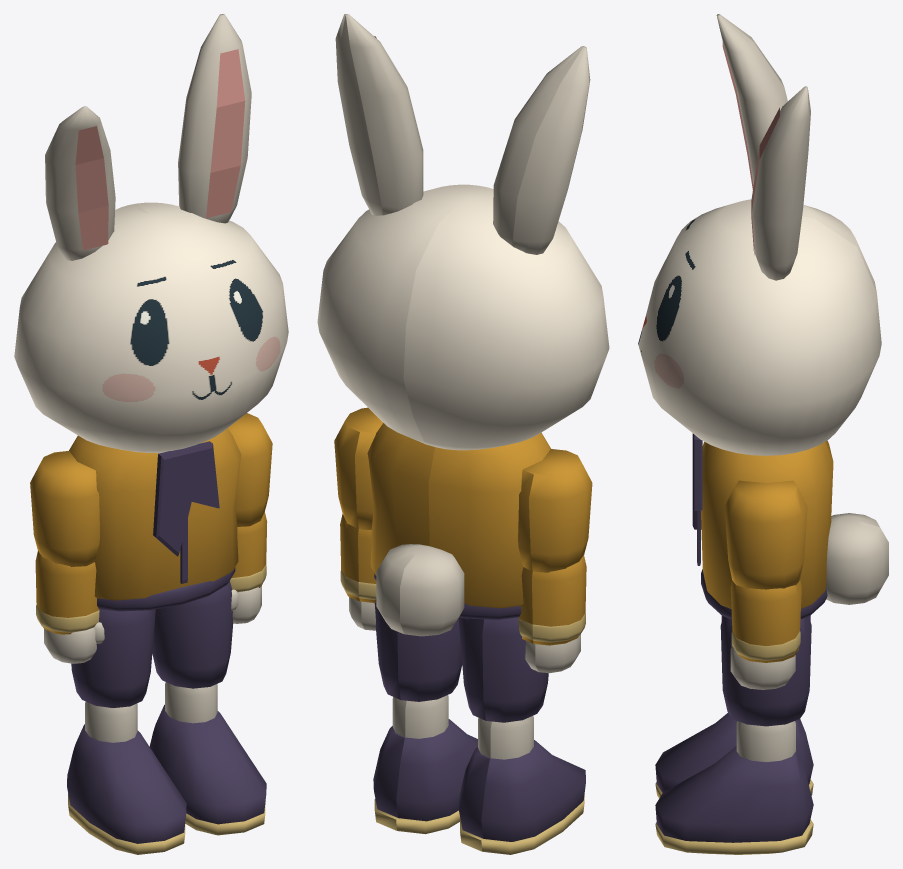
File: rabbit-pilot.glb
The picture shows the model from 3 angles, left to right: view 1: azimuth 30°, elevation 25°; view 2: azimuth 150°, elevation 25°; view 3: azimuth 270°, elevation 25°; orthographic projection. The views are drawn at different scales.
Parts seen in each view (by area): view 1: pilot_face, folded-collar, rabbit-earL-inlay, bootR, bootL, rabbit-earR-inlay, sleeveR, trouserL, trouserR, cuffR, sleeveL, cuffL (+4 smaller); view 2: pilot_face, folded-collar, rabbit-earR-inlay, rabbit-earL-inlay, bootR, bootL, sleeveR, trouserR, rabbit-tail, trouserL, cuffR, sleeveL (+5 smaller); view 3: pilot_face, bootL, folded-collar, rabbit-earL-inlay, sleeveL, cuffL, rabbit-tail, rabbit-earR-inlay, trouserL, bootR, sockL, pawL.
Boxes of the visible parts, <box> form: pilot_face: <box>14,202,288,453</box>; folded-collar: <box>69,428,241,611</box>; rabbit-earL-inlay: <box>178,14,251,223</box>; bootR: <box>67,724,186,854</box>; bootL: <box>149,704,266,835</box>; rabbit-earR-inlay: <box>45,106,115,260</box>; sleeveR: <box>30,451,99,566</box>; trouserL: <box>152,581,233,688</box>; trouserR: <box>71,609,155,707</box>; cuffR: <box>35,551,99,634</box>; sleeveL: <box>228,413,272,526</box>; cuffL: <box>230,512,267,592</box>; pilot_face: <box>317,184,609,450</box>; folded-collar: <box>367,423,550,619</box>; rabbit-earR-inlay: <box>493,46,590,254</box>; rabbit-earL-inlay: <box>335,14,423,215</box>; bootR: <box>458,740,585,854</box>; bootL: <box>373,719,477,834</box>; sleeveR: <box>518,449,592,572</box>; trouserR: <box>458,617,548,722</box>; rabbit-tail: <box>376,544,464,636</box>; trouserL: <box>374,599,462,701</box>; cuffR: <box>518,555,586,645</box>; sleeveL: <box>334,407,382,529</box>; pilot_face: <box>638,199,881,455</box>; bootL: <box>655,746,813,854</box>; folded-collar: <box>692,433,833,619</box>; rabbit-earL-inlay: <box>751,86,810,280</box>; sleeveL: <box>724,480,807,589</box>; cuffL: <box>730,580,801,662</box>; rabbit-tail: <box>826,513,888,604</box>; rabbit-earR-inlay: <box>716,14,787,189</box>; trouserL: <box>720,616,811,726</box>; bootR: <box>655,713,813,798</box>; sockL: <box>736,721,795,762</box>; pawL: <box>730,642,795,689</box>.
Size of the model in its own units: 0.75 by 2.17 by 0.6337.
2 materials, 1 textured.
